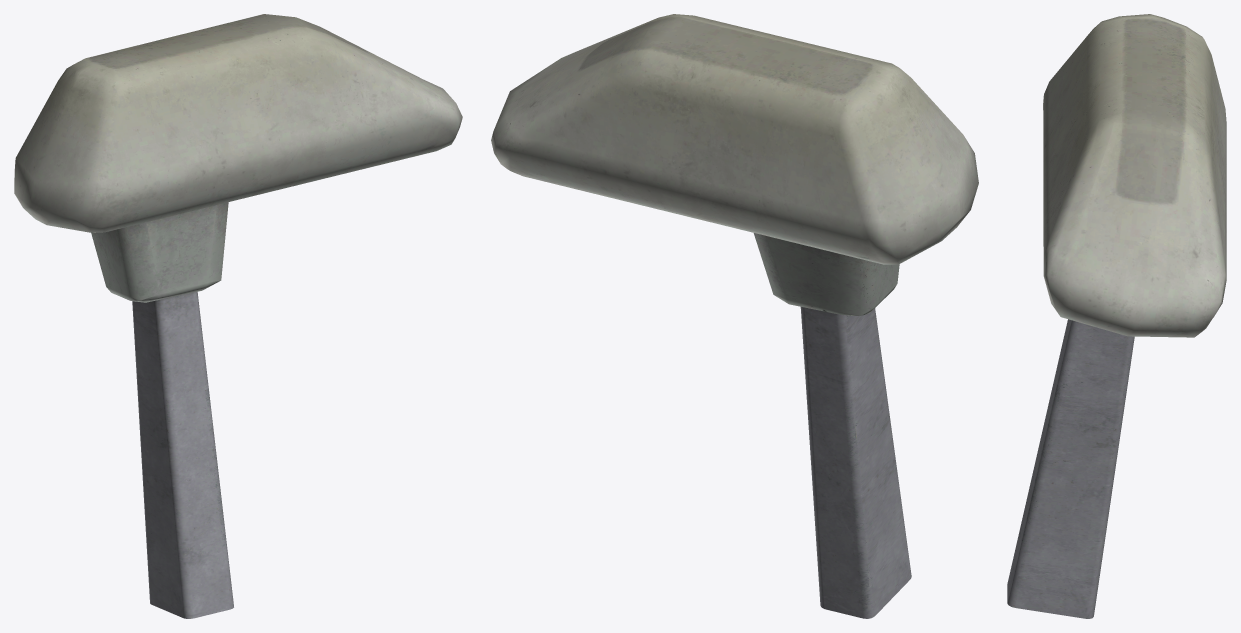
File: SM_ConsolsLever_A_mo.glb
3 views of the same model, side by side, from view 1: azimuth 30°, elevation 25°; view 2: azimuth 150°, elevation 25°; view 3: azimuth 270°, elevation 25° (orthographic). The views are drawn at different scales.
Visible parts, largest first — view 1: SM_ConsolsLever_A_mo; view 2: SM_ConsolsLever_A_mo; view 3: SM_ConsolsLever_A_mo.
Part boxes in pixels (x1=…): SM_ConsolsLever_A_mo: x1=14, y1=14, x2=462, y2=618; SM_ConsolsLever_A_mo: x1=491, y1=14, x2=978, y2=618; SM_ConsolsLever_A_mo: x1=1007, y1=14, x2=1226, y2=618.
Bounding box in the file's own units: 0.3123 × 0.3761 × 0.1321.
1 material, 1 textured.
